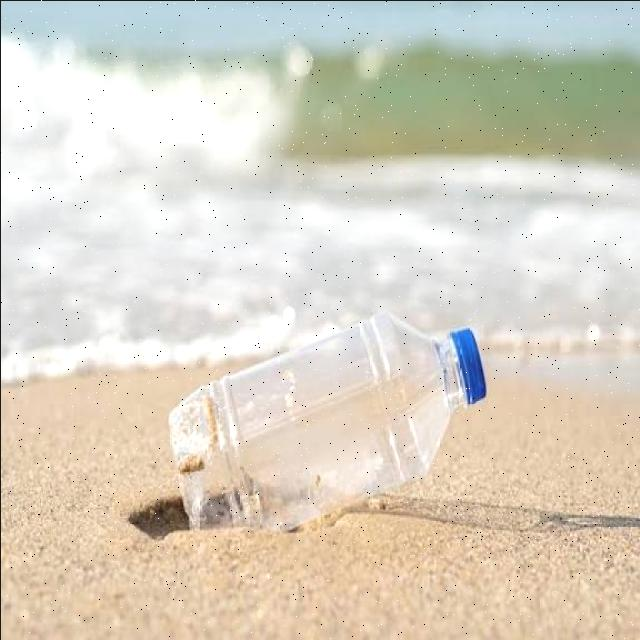plastic: (113, 263, 523, 615)
